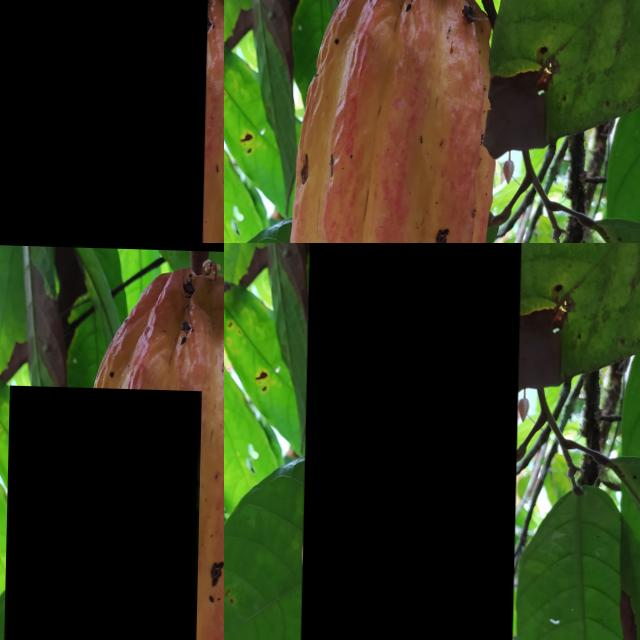Monilia: (1, 384, 202, 640)
Sana: (300, 243, 522, 640), (0, 0, 208, 243), (421, 80, 505, 243), (482, 170, 531, 243), (355, 192, 390, 243)
